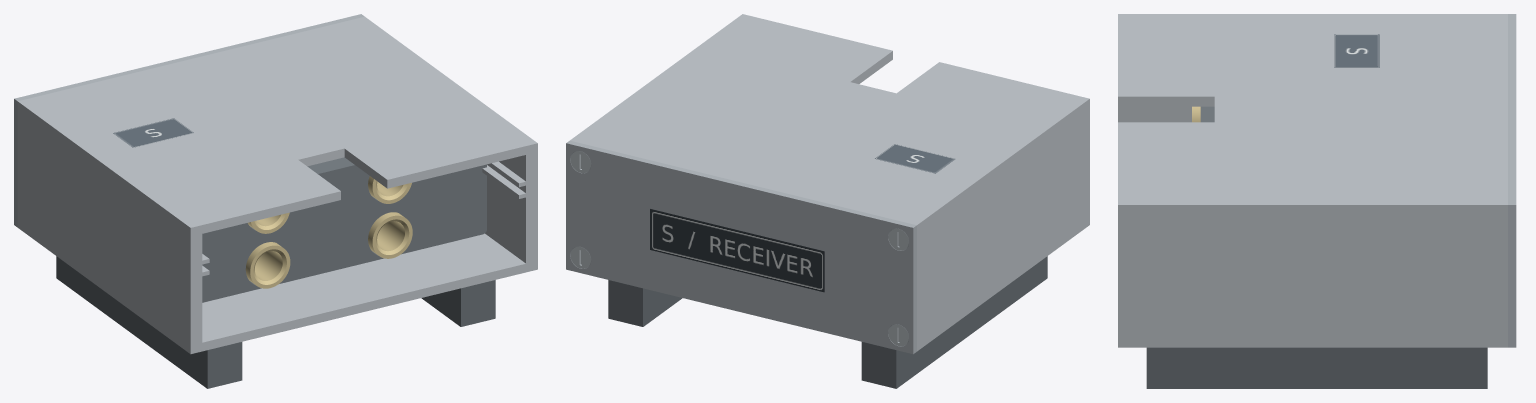
3 views of the same model, side by side, from view 1: azimuth 30°, elevation 25°; view 2: azimuth 150°, elevation 25°; view 3: azimuth 270°, elevation 25° (orthographic). The views are drawn at different scales.
Visible parts, largest first — view 1: S/0000_Adafruit_2230_open_extrusion_with_keyway, S/0004_four_bore_insulating_carrier, S/0002_rubber_support, S/0003_rubber_support, S/0001_Adafruit_2230_rear_end_plate, S/0005_contact_socket_bore_1, S/0007_contact_socket_bore_3, S/label_14, S/0008_contact_socket_bore_4, S/0006_contact_socket_bore_2; view 2: S/0000_Adafruit_2230_open_extrusion_with_keyway, S/0001_Adafruit_2230_rear_end_plate, S/label_13, S/0002_rubber_support, S/0003_rubber_support, S/label_14; view 3: S/0000_Adafruit_2230_open_extrusion_with_keyway, S/0003_rubber_support, S/0001_Adafruit_2230_rear_end_plate, S/label_14.
Boxes of the visible parts, x1=… form: S/0000_Adafruit_2230_open_extrusion_with_keyway: x1=17, y1=16, x2=537, y2=354; S/0004_four_bore_insulating_carrier: x1=202, y1=157, x2=486, y2=302; S/0002_rubber_support: x1=56, y1=256, x2=242, y2=388; S/0003_rubber_support: x1=421, y1=280, x2=495, y2=326; S/0001_Adafruit_2230_rear_end_plate: x1=14, y1=14, x2=364, y2=227; S/0005_contact_socket_bore_1: x1=245, y1=242, x2=290, y2=288; S/0007_contact_socket_bore_3: x1=368, y1=212, x2=412, y2=258; S/label_14: x1=113, y1=118, x2=193, y2=147; S/0008_contact_socket_bore_4: x1=368, y1=176, x2=411, y2=203; S/0006_contact_socket_bore_2: x1=248, y1=212, x2=289, y2=233; S/0000_Adafruit_2230_open_extrusion_with_keyway: x1=570, y1=14, x2=1089, y2=351; S/0001_Adafruit_2230_rear_end_plate: x1=566, y1=140, x2=916, y2=354; S/label_13: x1=650, y1=209, x2=824, y2=292; S/0002_rubber_support: x1=861, y1=256, x2=1047, y2=388; S/0003_rubber_support: x1=608, y1=280, x2=682, y2=326; S/label_14: x1=875, y1=144, x2=955, y2=173; S/0000_Adafruit_2230_open_extrusion_with_keyway: x1=1118, y1=14, x2=1507, y2=347; S/0003_rubber_support: x1=1146, y1=347, x2=1487, y2=388; S/0001_Adafruit_2230_rear_end_plate: x1=1508, y1=14, x2=1516, y2=347; S/label_14: x1=1334, y1=34, x2=1379, y2=67.
Size of the model in its own units: 0.0795 by 0.0389 by 0.071.
Materials: 11 (2 with a texture image).
